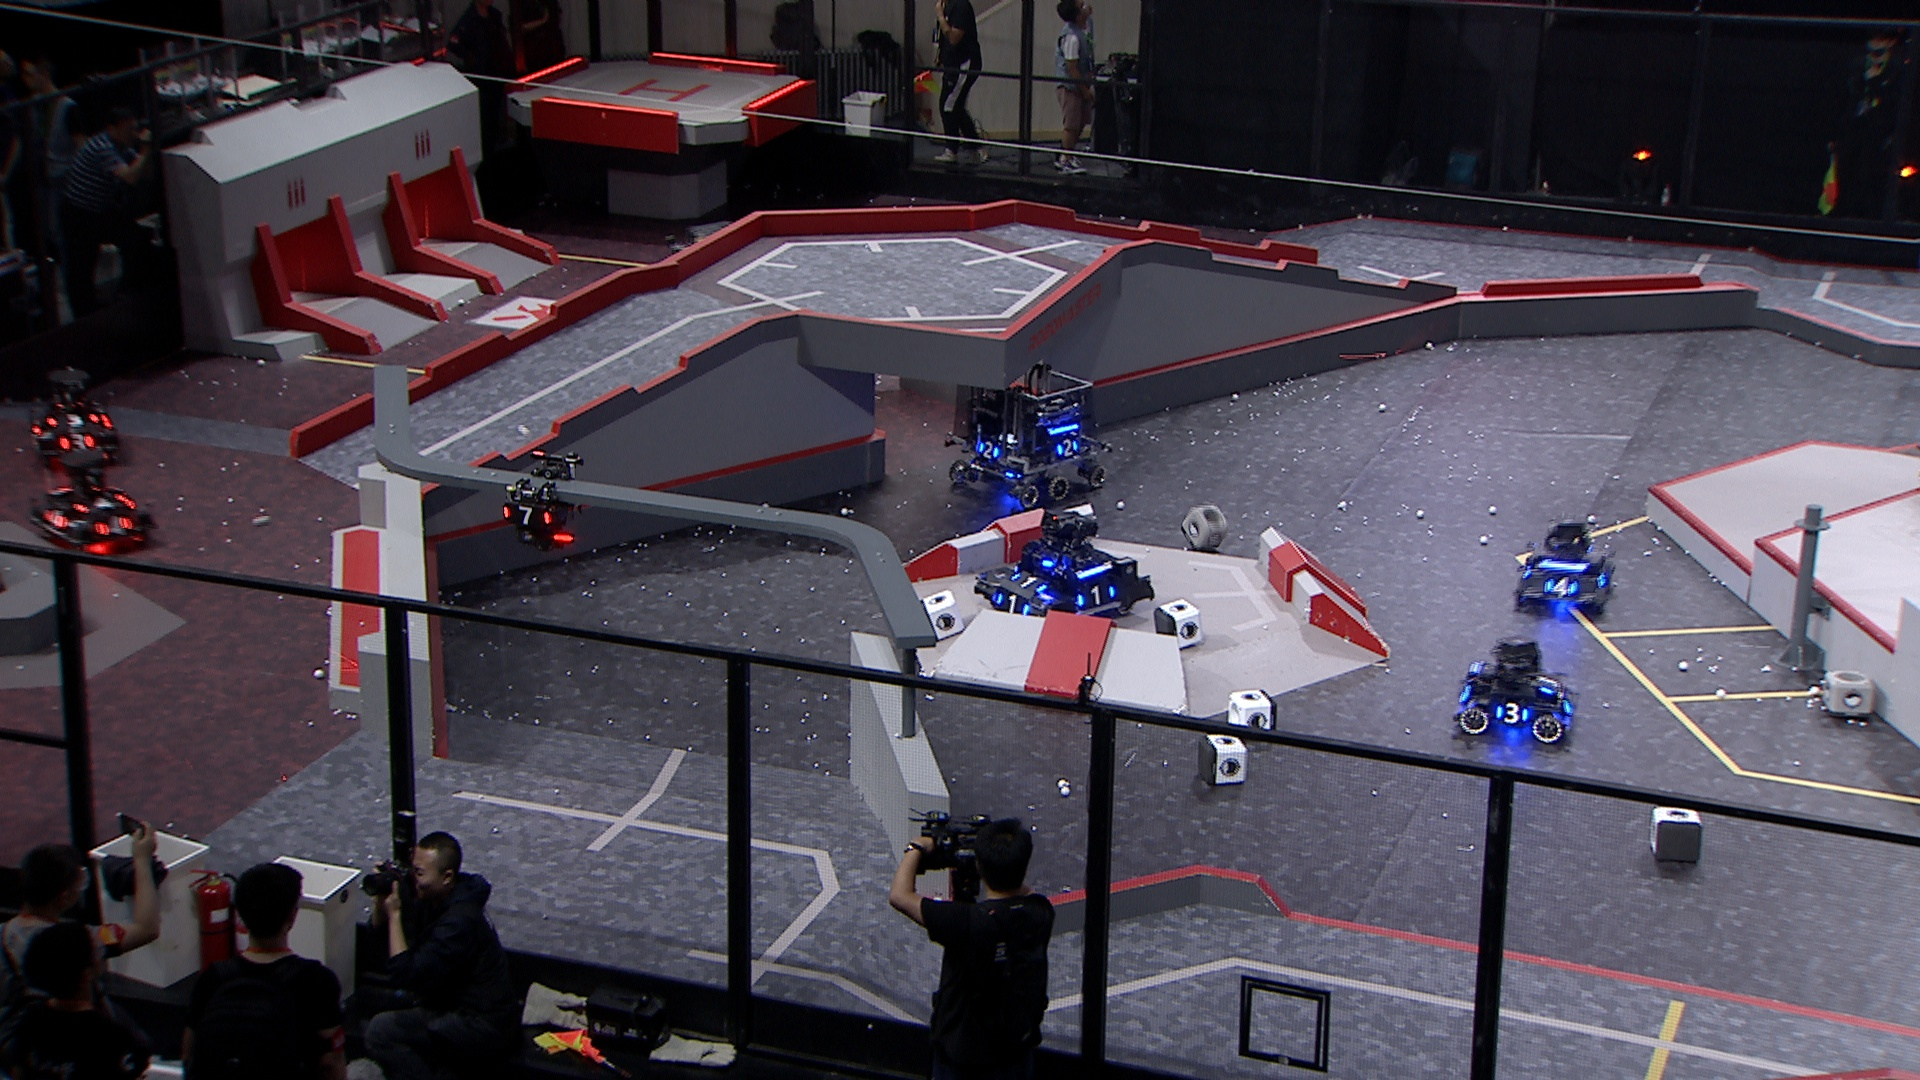armor: (74, 491, 127, 514), (501, 504, 553, 527), (1073, 583, 1116, 609), (1494, 700, 1531, 727), (45, 411, 102, 429), (95, 517, 135, 541), (1543, 575, 1580, 600), (997, 591, 1033, 616), (1011, 571, 1048, 593), (58, 433, 95, 454), (38, 505, 69, 529), (1538, 669, 1564, 695), (977, 438, 1004, 462), (1058, 436, 1079, 460)
car: (945, 357, 1117, 509), (975, 508, 1155, 622), (29, 447, 160, 553), (1457, 637, 1576, 744), (25, 363, 125, 463), (1516, 520, 1619, 615)
watcher: (500, 451, 585, 550)
